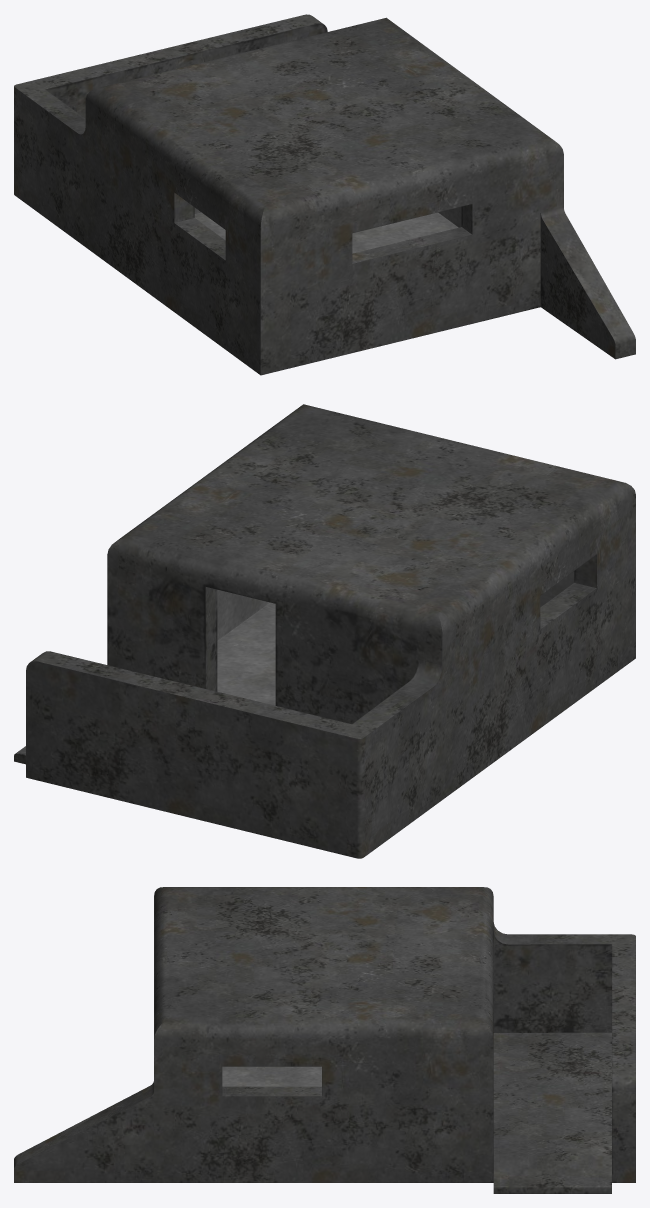
3 renders of one model, top to bottom at view 1: azimuth 30°, elevation 25°; view 2: azimuth 150°, elevation 25°; view 3: azimuth 270°, elevation 25°, orthographic. The views are drawn at different scales.
Visible parts, largest first — view 1: Cube; view 2: Cube; view 3: Cube.
Part boxes in pixels (x1,y1,x2,y2): Cube: (14, 14, 635, 375); Cube: (14, 404, 635, 858); Cube: (14, 887, 635, 1193).
Bounding box in the file's own units: 6.35 × 3.02 × 10.81.
2 materials, 2 textured.
